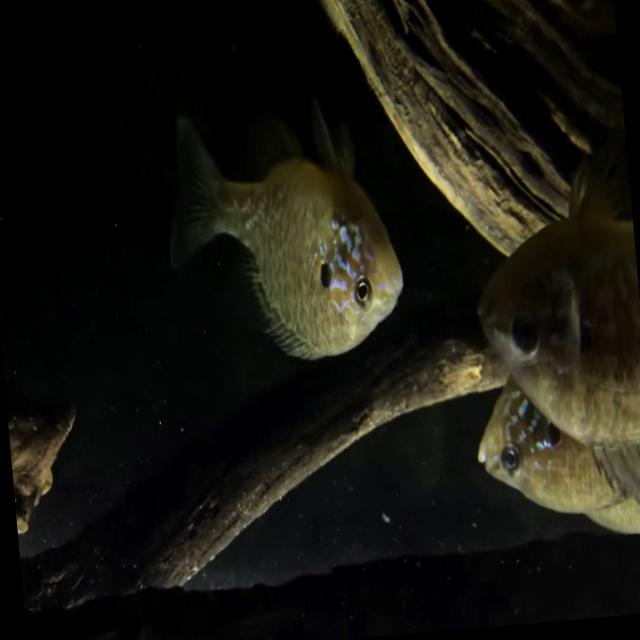Gunes Levregi: (157, 90, 410, 376), (458, 165, 640, 517)
